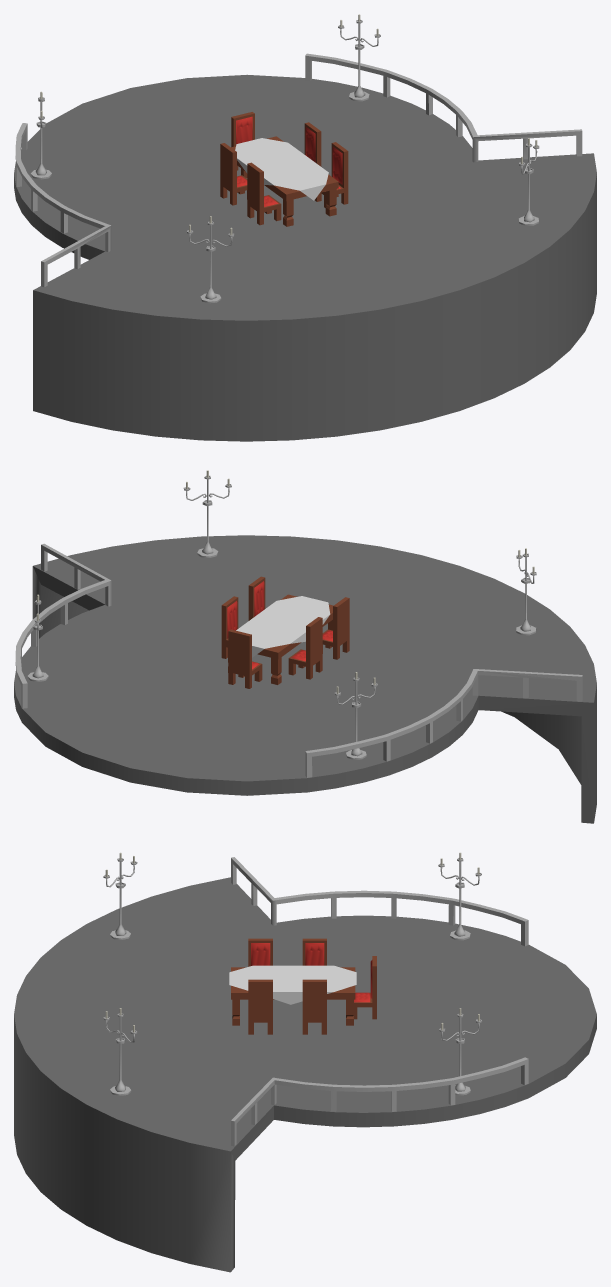
File: Dest_Hall_Field_SecondFloor.FBX
The picture shows the model from 3 angles, top to bottom: view 1: azimuth 30°, elevation 25°; view 2: azimuth 150°, elevation 25°; view 3: azimuth 270°, elevation 25°; orthographic projection.
Parts seen in each view (by area): view 1: Cylinder003; view 2: Cylinder003; view 3: Cylinder003.
Part boxes in pixels (x1=…): Cylinder003: x1=14, y1=14, x2=596, y2=441; Cylinder003: x1=14, y1=470, x2=596, y2=823; Cylinder003: x1=14, y1=852, x2=596, y2=1272.
Size of the model in its own units: 249 by 87 by 224.
